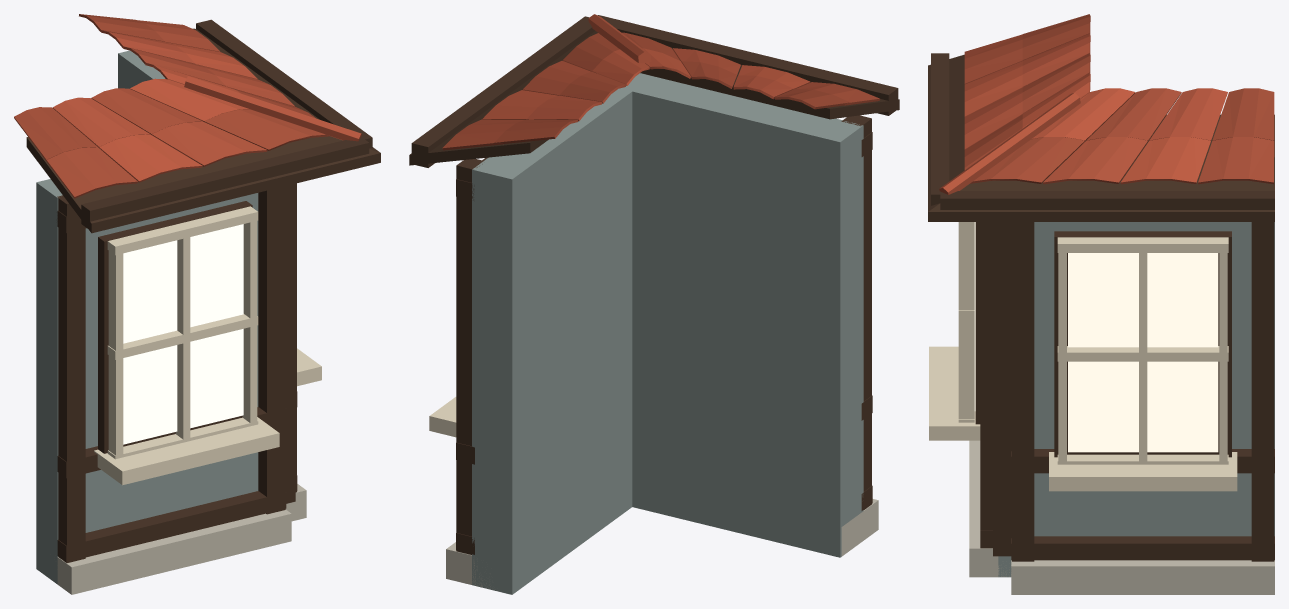
File: SM_Wall_Corner_L2.glb
The picture shows the model from 3 angles, left to right: view 1: azimuth 30°, elevation 25°; view 2: azimuth 150°, elevation 25°; view 3: azimuth 270°, elevation 25°; orthographic projection. The views are drawn at different scales.
Parts seen in each view (by area): view 1: SM_Wall_Corner; view 2: SM_Wall_Corner; view 3: SM_Wall_Corner.
Part boxes in pixels (box(x1,y1,x2,y2)): SM_Wall_Corner: box(14, 14, 380, 594); SM_Wall_Corner: box(409, 14, 899, 594); SM_Wall_Corner: box(928, 14, 1274, 594).
Size of the model in its own units: 2.63 by 3.83 by 2.63.
